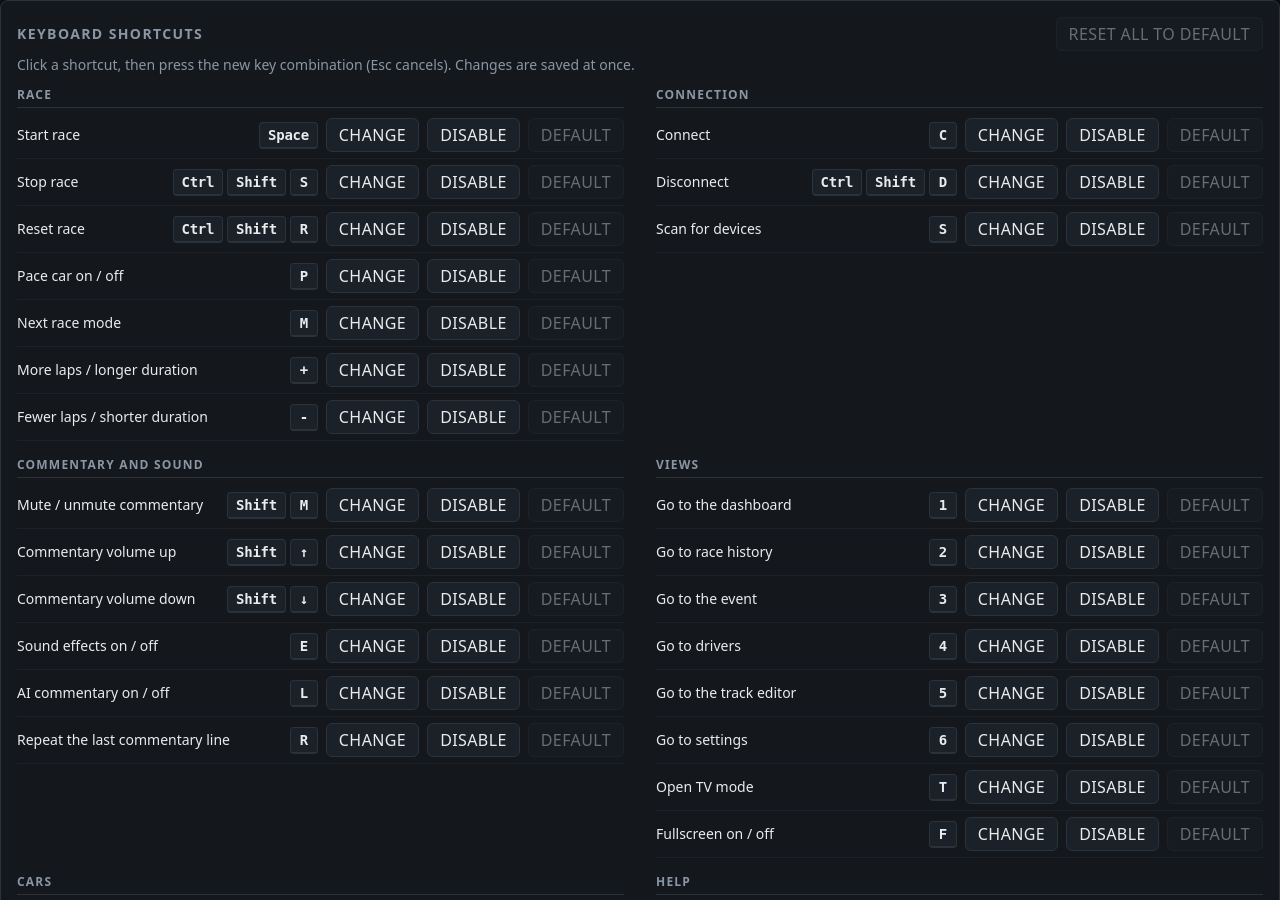
ShortcutsSection › records a new combo and saves only the difference from the default
This screenshot has width=1280, height=900.
Click the button with aria-label "Change the shortcut for Pace car on / off" at coordinates (373, 276), box [326,259,419,293]
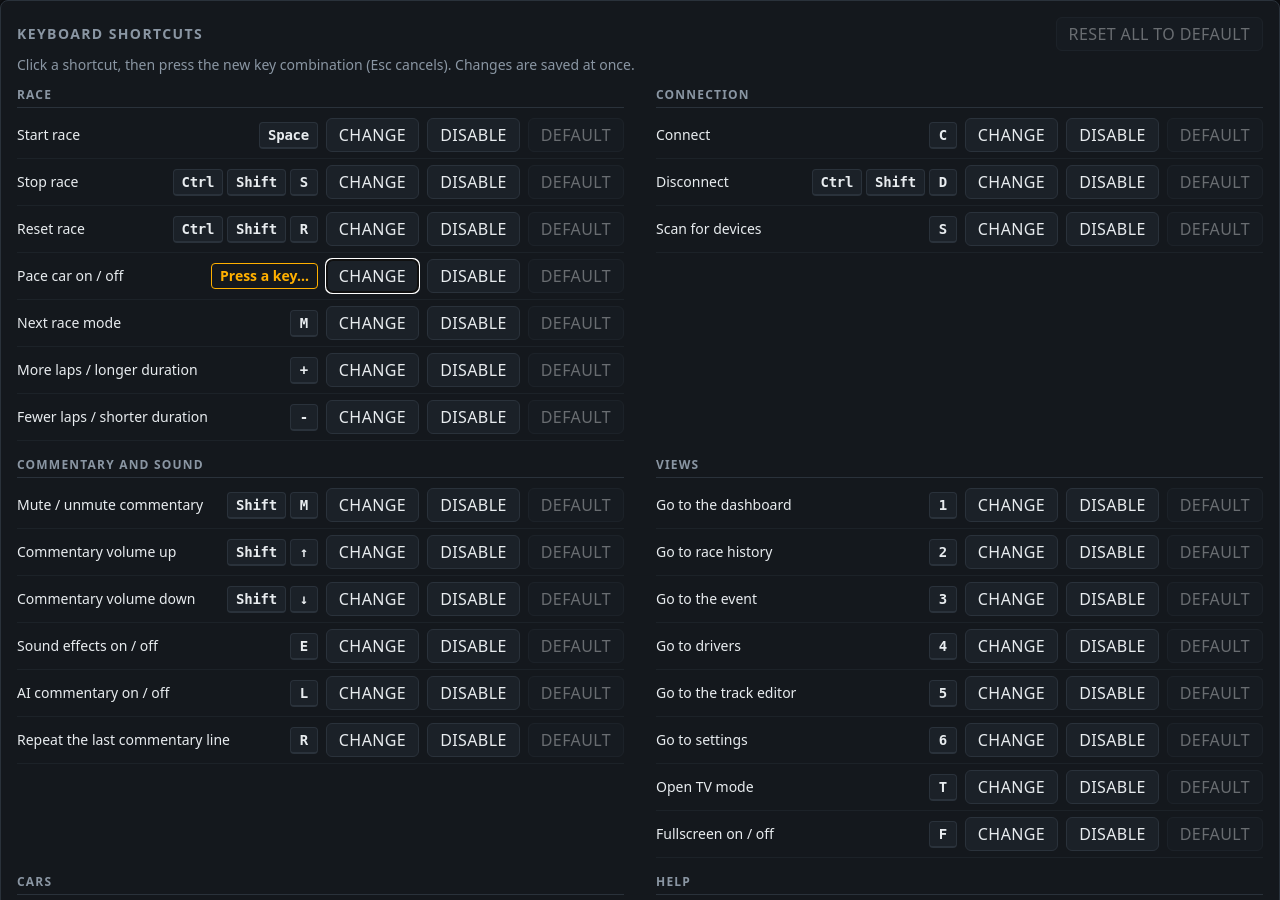
Now the message shows "Press a key", box [220,266,309,285]
Press X
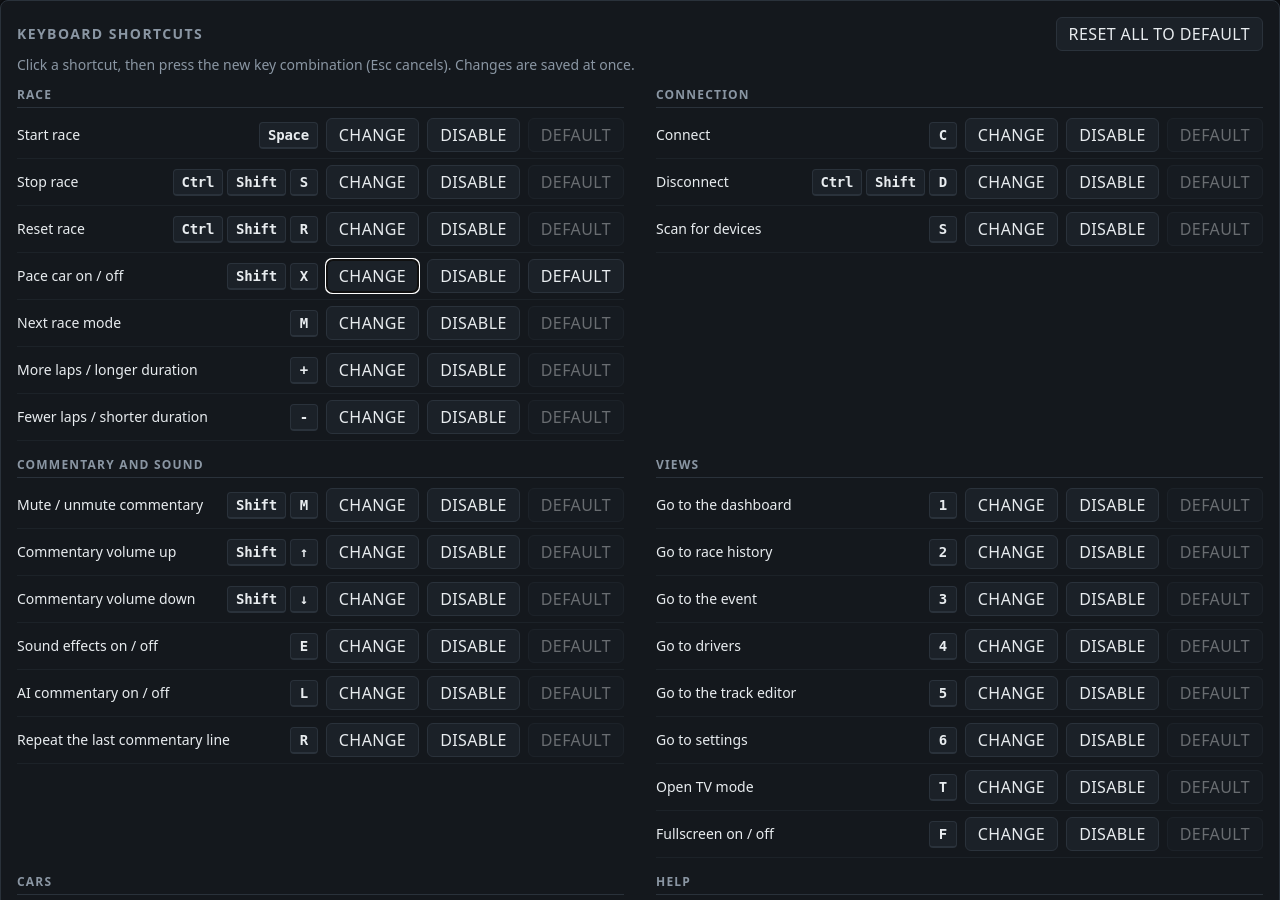
Now the message "Press a key…" is gone
